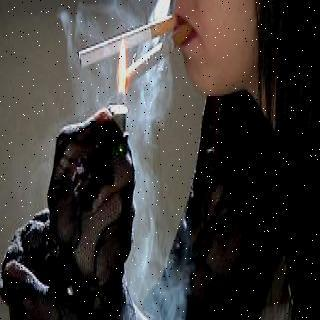smoke: (48, 0, 192, 318)
